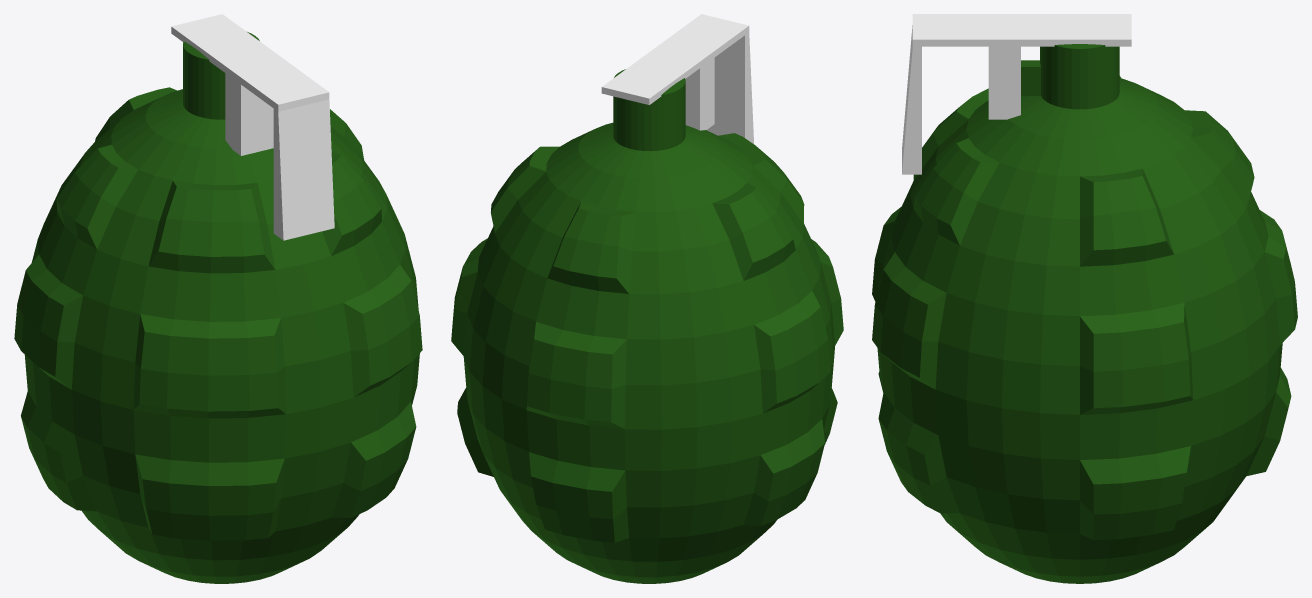
The model's file is Grenade.fbx.
3 renders of one model, left to right at view 1: azimuth 30°, elevation 25°; view 2: azimuth 150°, elevation 25°; view 3: azimuth 270°, elevation 25°, orthographic. The views are drawn at different scales.
Visible parts, largest first — view 1: Sphere, Cube; view 2: Sphere, Cube; view 3: Sphere, Cube.
Boxes of the visible parts, left/top/right/bottom form: Sphere: left=14, top=32, right=422, bottom=583; Cube: left=171, top=14, right=334, bottom=240; Sphere: left=451, top=69, right=843, bottom=583; Cube: left=601, top=14, right=753, bottom=143; Sphere: left=872, top=44, right=1297, bottom=583; Cube: left=902, top=14, right=1131, bottom=174.
Size of the model in its own units: 212 by 293 by 209.
